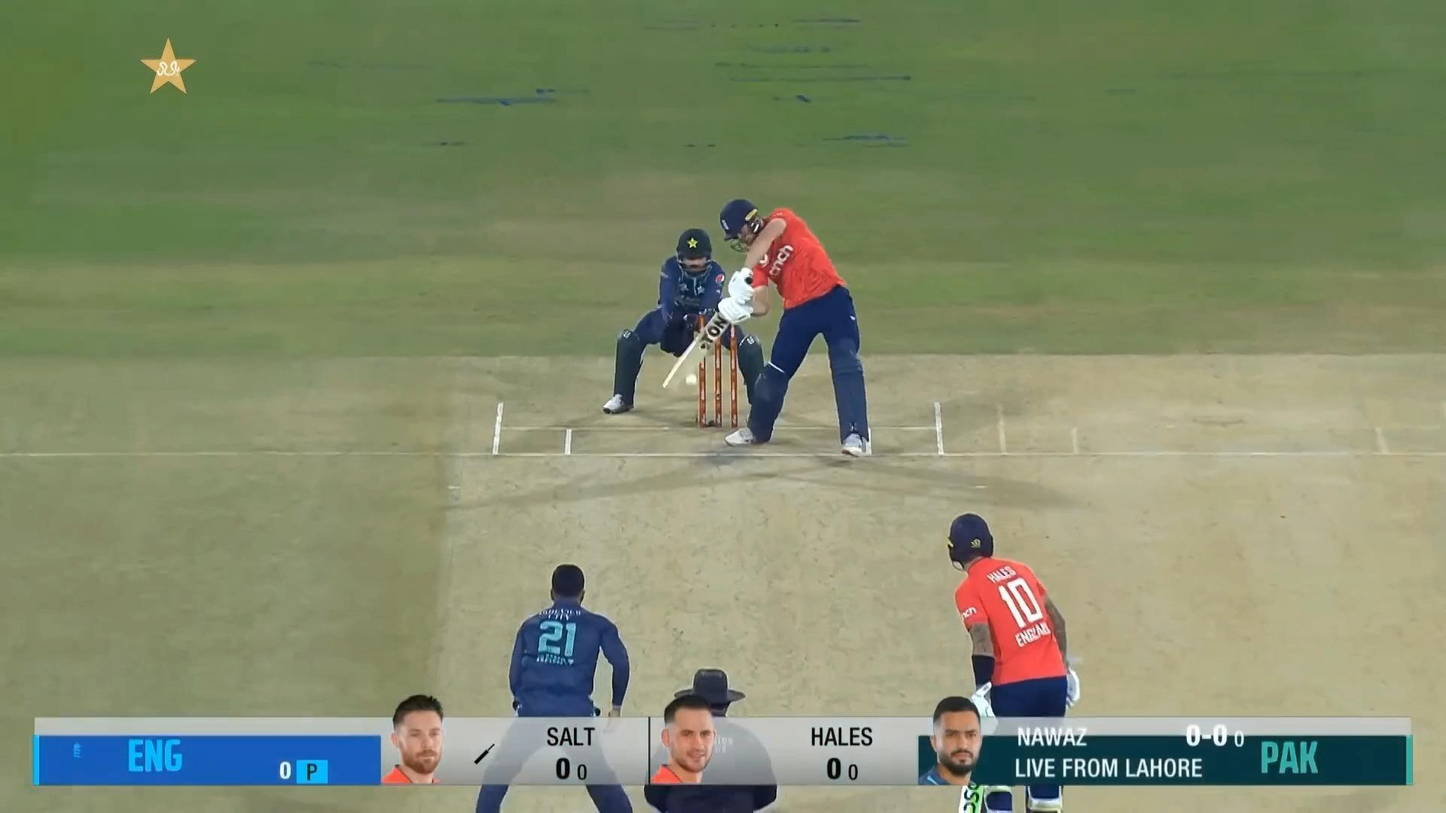BM 1: (663, 197, 872, 458)
BO: (474, 564, 634, 813)
